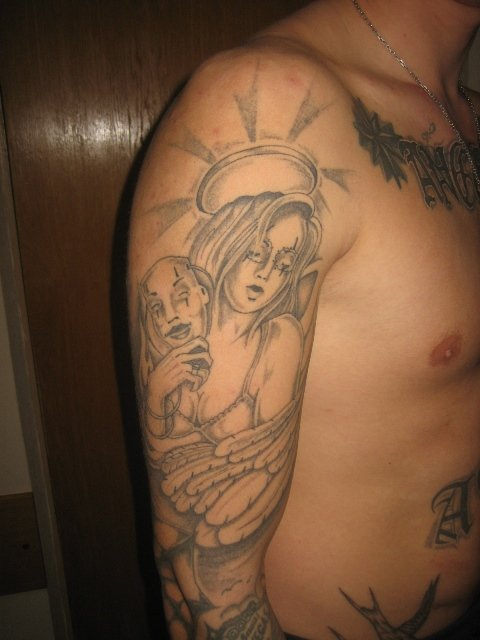tatu1_angel: (126, 140, 329, 558)
tatu3_bukva: (395, 124, 478, 217), (425, 470, 474, 554)
tatu4_zvezda: (352, 102, 405, 191)
